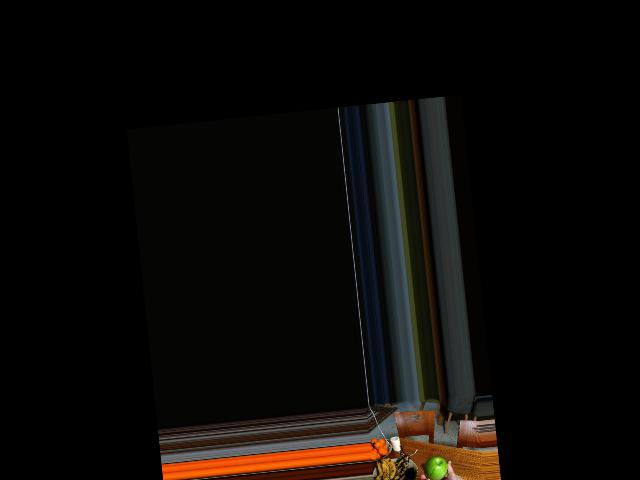apple: (421, 453, 449, 480)
